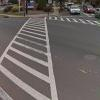Crosswalk: (7, 10, 56, 100)
